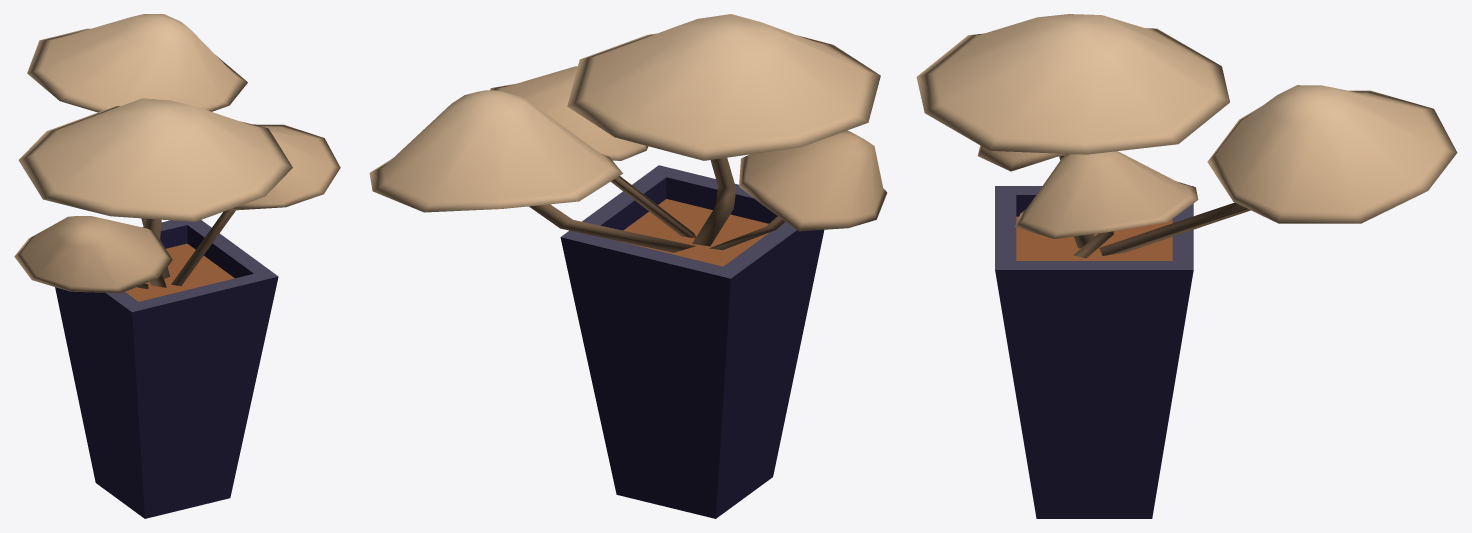
The model's file is pfp14.fbx.
3 renders of one model, left to right at view 1: azimuth 30°, elevation 25°; view 2: azimuth 150°, elevation 25°; view 3: azimuth 270°, elevation 25°, orthographic. The views are drawn at different scales.
Visible parts, largest first — view 1: pfp14; view 2: pfp14; view 3: pfp14.
Part boxes in pixels (box(x1,y1,x2,y2)): pfp14: box(14, 14, 340, 518); pfp14: box(369, 14, 887, 518); pfp14: box(916, 14, 1457, 518).
Size of the model in its own units: 42.92 by 51.43 by 54.84.
